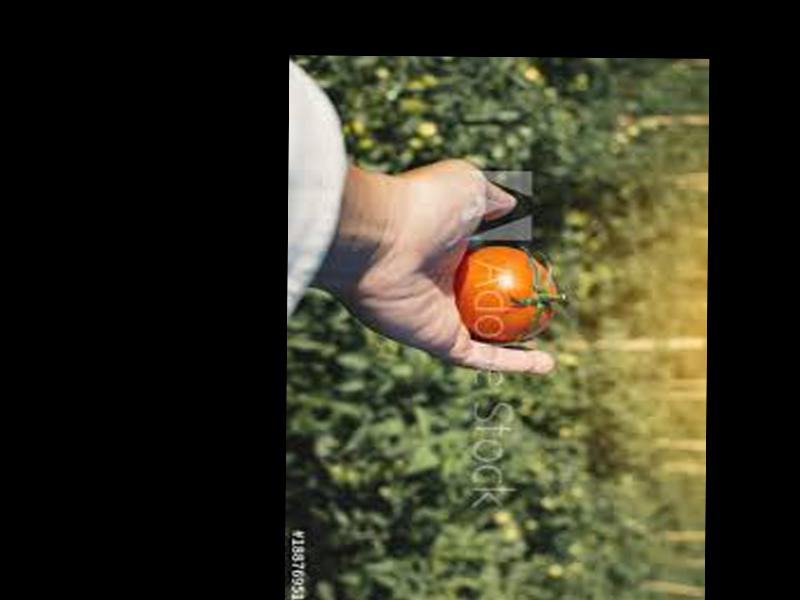Tomato: (458, 248, 555, 344)
